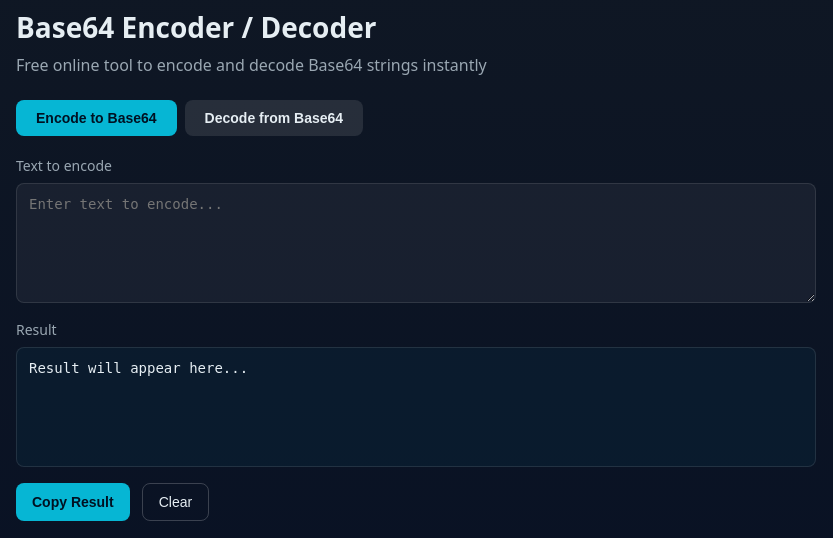
Test case: Base64Tool › clears input and output
This screenshot has width=833, height=538.
Type "hello" into the text box with placeholder "Enter text to encode..." at (416, 243), box [16,183,816,303]
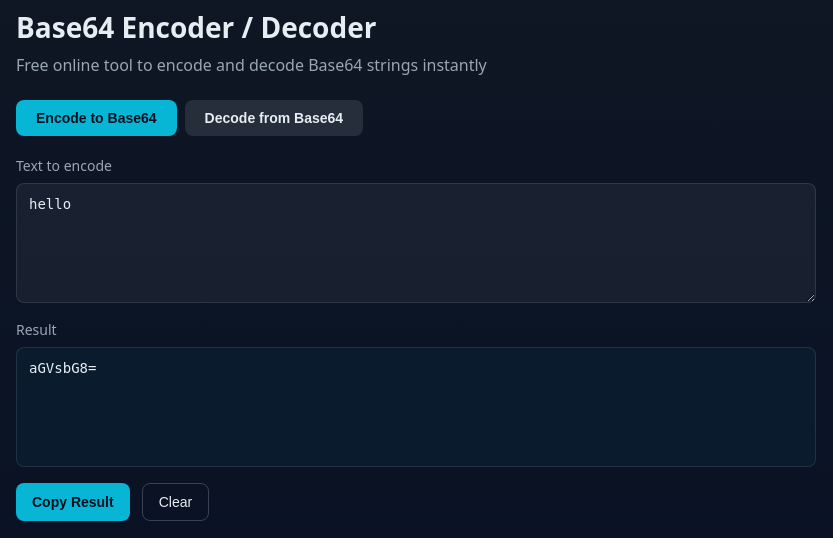
Click the button "Clear" at (175, 502), box [142,483,209,521]
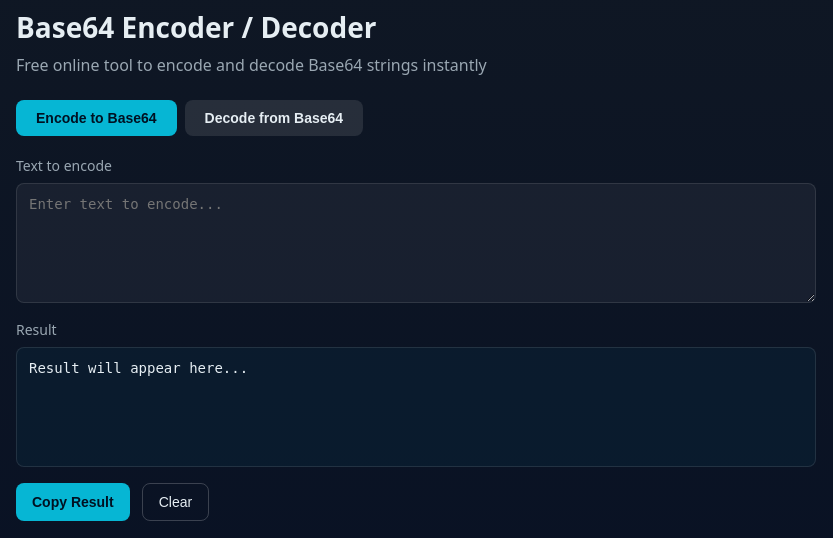
Expected: the text box with placeholder "Enter text to encode..." is empty, [16,183,816,303]
Expected: the text "Result will appear here..." is shown, [16,347,816,467]
